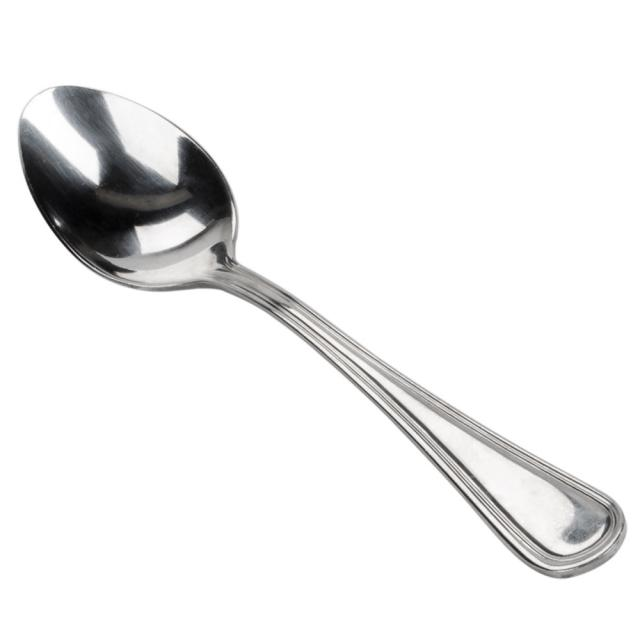spoon: (5, 78, 634, 577)
